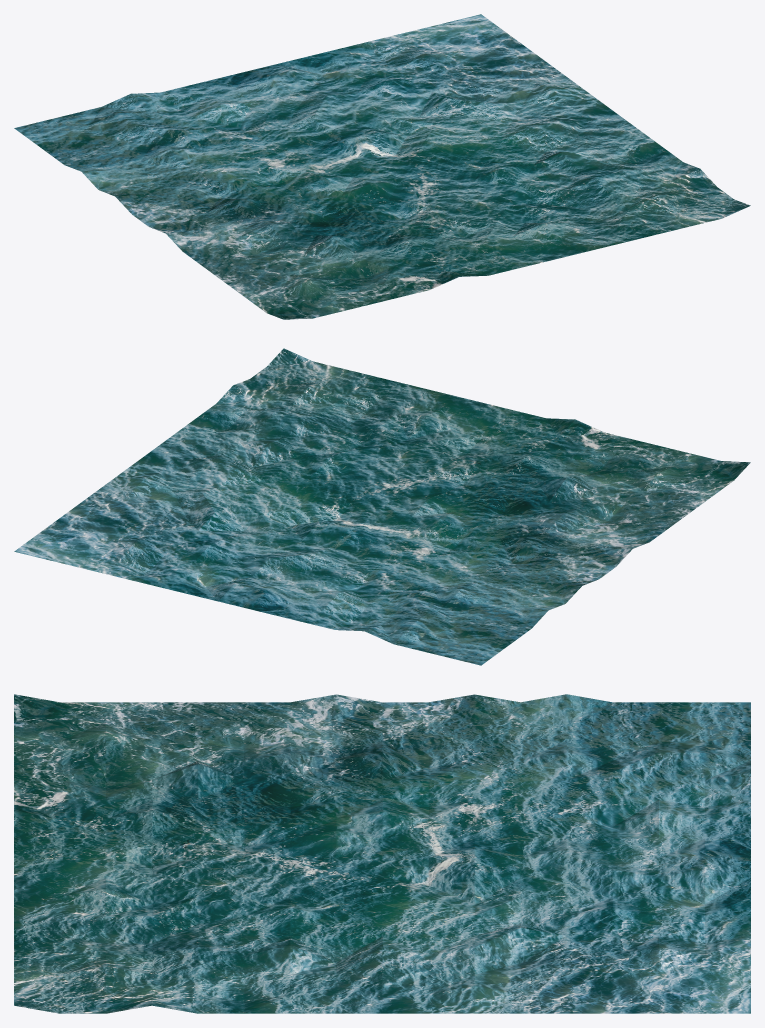
The model's file is hav.glb.
3 renders of one model, top to bottom at view 1: azimuth 30°, elevation 25°; view 2: azimuth 150°, elevation 25°; view 3: azimuth 270°, elevation 25°, orthographic. The views are drawn at different scales.
Visible parts, largest first — view 1: Plane; view 2: Plane; view 3: Plane.
Part boxes in pixels (box(x1,y1,x2,y2)): Plane: box(14, 14, 750, 319); Plane: box(14, 348, 750, 665); Plane: box(14, 694, 750, 1013).
Size of the model in its own units: 1000 by 35.11 by 1000.
Materials: 1 (1 with a texture image).
